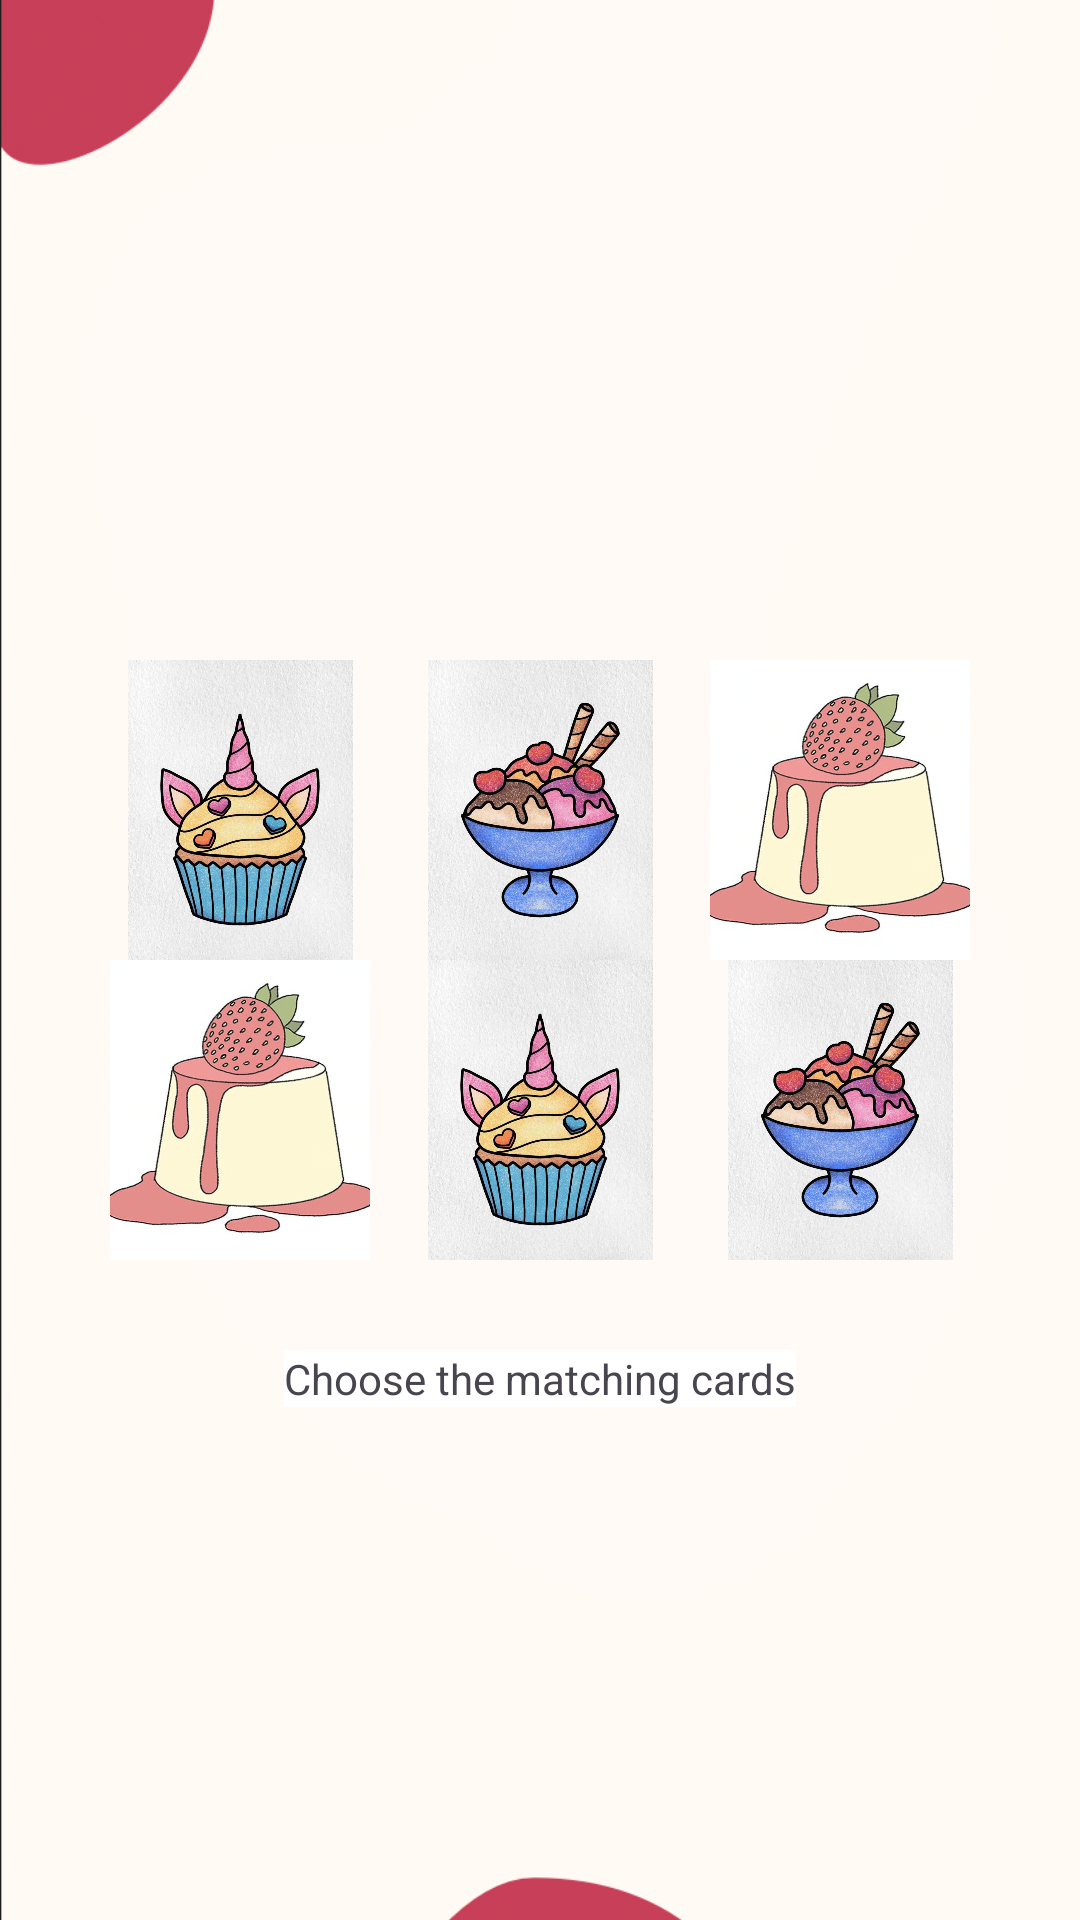

Point at icon controls on the screen. Image size 1080w x 1920h, points as (x=x, y=y).
cupcake: (x=240, y=810), (x=540, y=1110)
icecream: (x=540, y=810), (x=840, y=1110)
strwaberrycake: (x=840, y=808), (x=240, y=1108)
